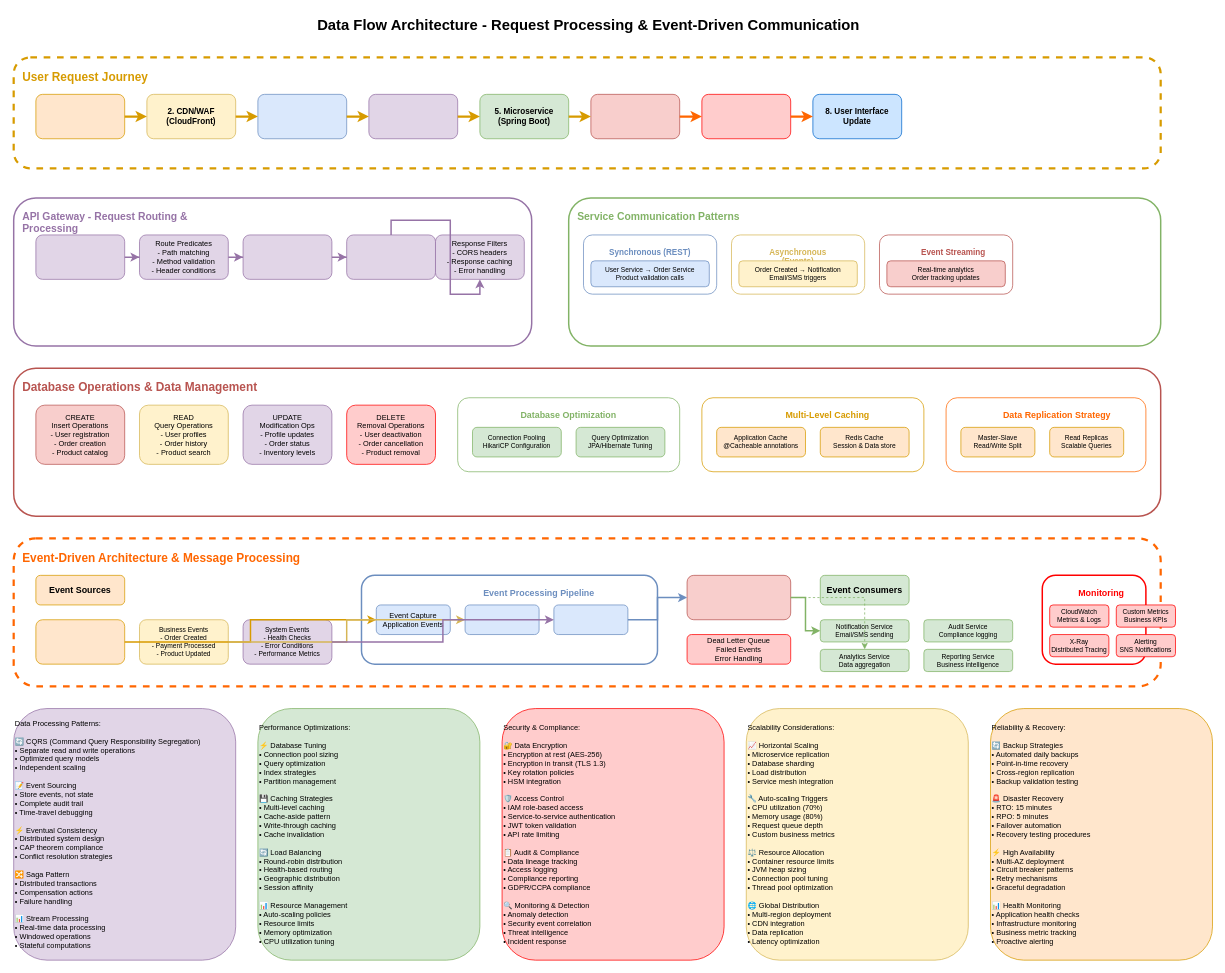
Some shapes in this 1225 by 973 pixel diagram are drawn without their labels. Each missing label, with the box of its shape:
1. User Action (Browser/Mobile): (35, 94, 125, 139)
3. Load Balancer (ALB): (257, 94, 347, 139)
4. API Gateway (Spring Gateway): (368, 94, 458, 139)
6. Database (Oracle RDS): (590, 94, 680, 139)
7. Response Processing: (701, 94, 791, 139)
Event Processing Business Logic: (553, 604, 628, 635)
Event Routing Topic-based: (464, 604, 539, 635)
Event Store Amazon SNS/SQS Event Sourcing: (686, 575, 791, 620)
Filter Chain - Authentication - Authorization - Logging: (242, 234, 332, 279)
Load Balancing - Round robin - Health checks - Circuit breaker: (346, 234, 435, 279)
Request Validation - Header validation - JWT token check - Rate limiting: (35, 234, 125, 279)
User Actions - Login/Logout - Profile Updates - Password Changes: (35, 619, 125, 664)
